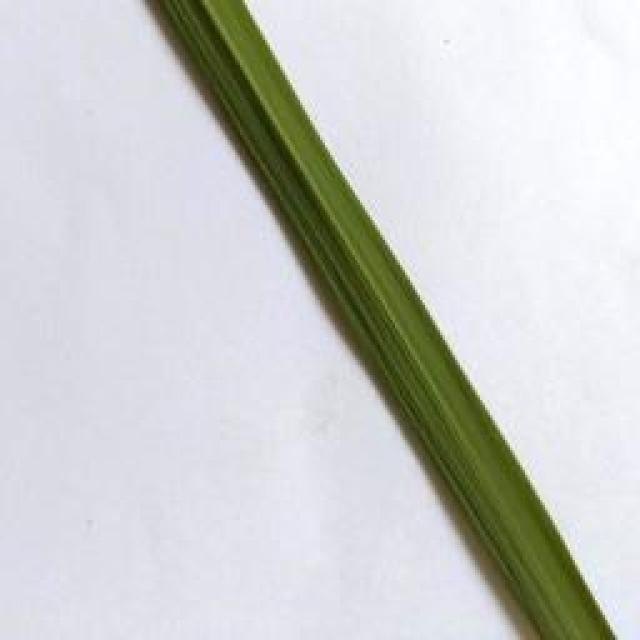Healthy-Plant: (156, 0, 616, 640)
